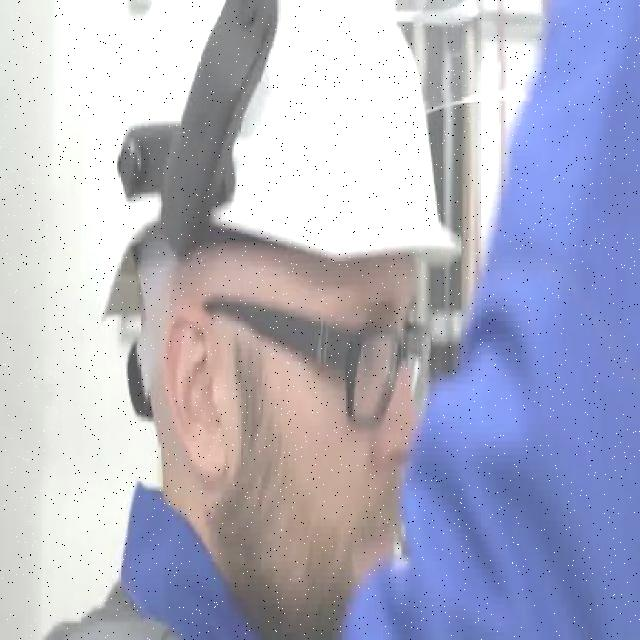Helmet: (96, 0, 465, 332)
